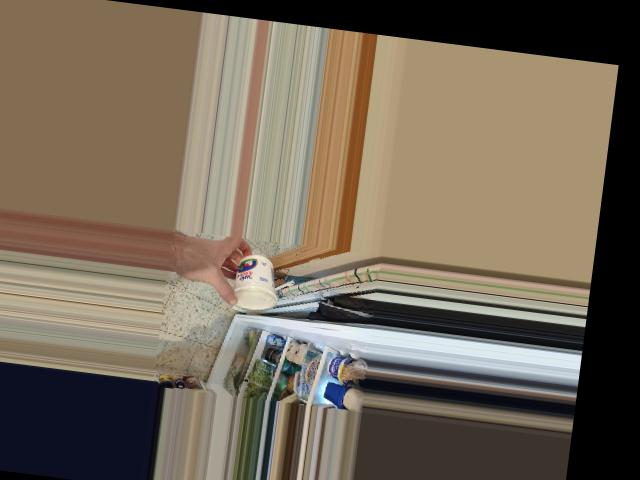cotage: (230, 252, 279, 314)
